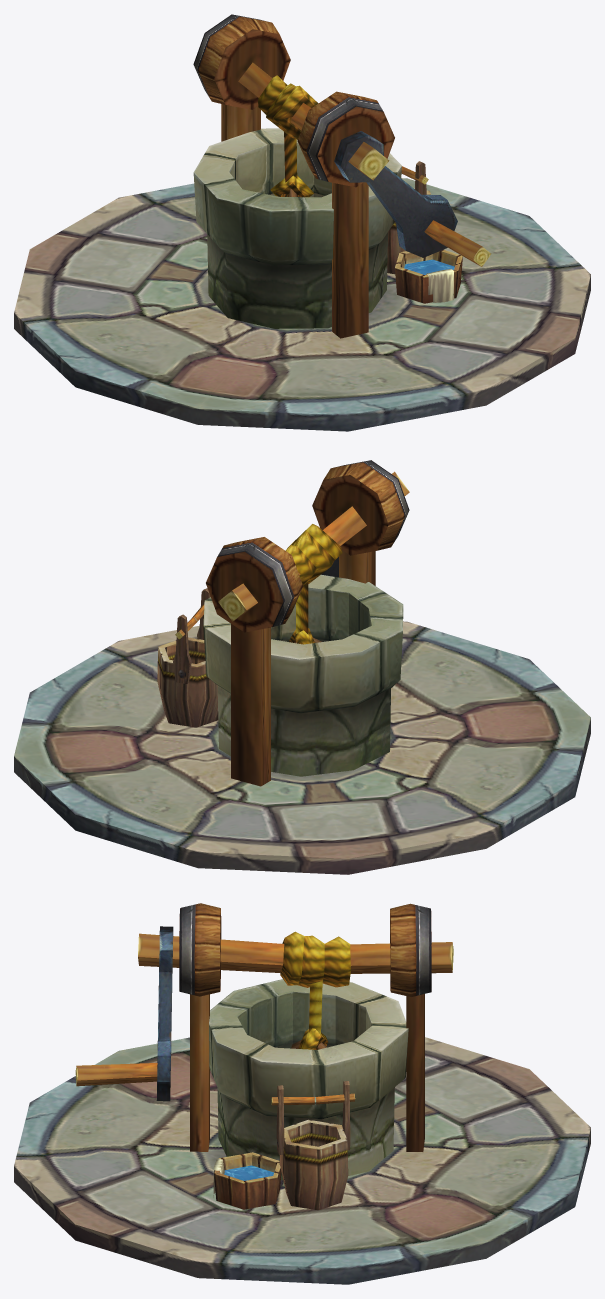
The model's file is Shuijing02.FBX.
3 views of the same model, one above another, from view 1: azimuth 30°, elevation 25°; view 2: azimuth 150°, elevation 25°; view 3: azimuth 270°, elevation 25° (orthographic).
Parts seen in each view (by area): view 1: shuijing2; view 2: shuijing2; view 3: shuijing2.
Part boxes in pixels (<box>): shuijing2: <box>14,14,590,431</box>; shuijing2: <box>14,460,590,874</box>; shuijing2: <box>14,903,590,1284</box>.
Size of the model in its own units: 155 by 75.62 by 155.
